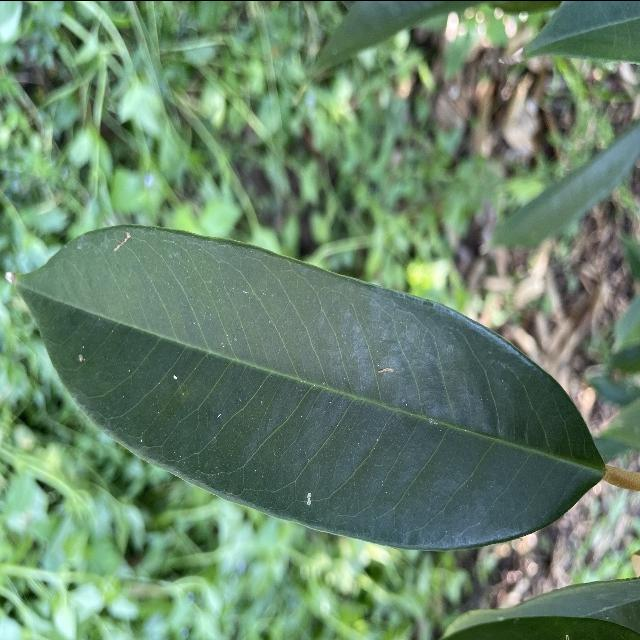No Disease: (0, 215, 615, 557)
